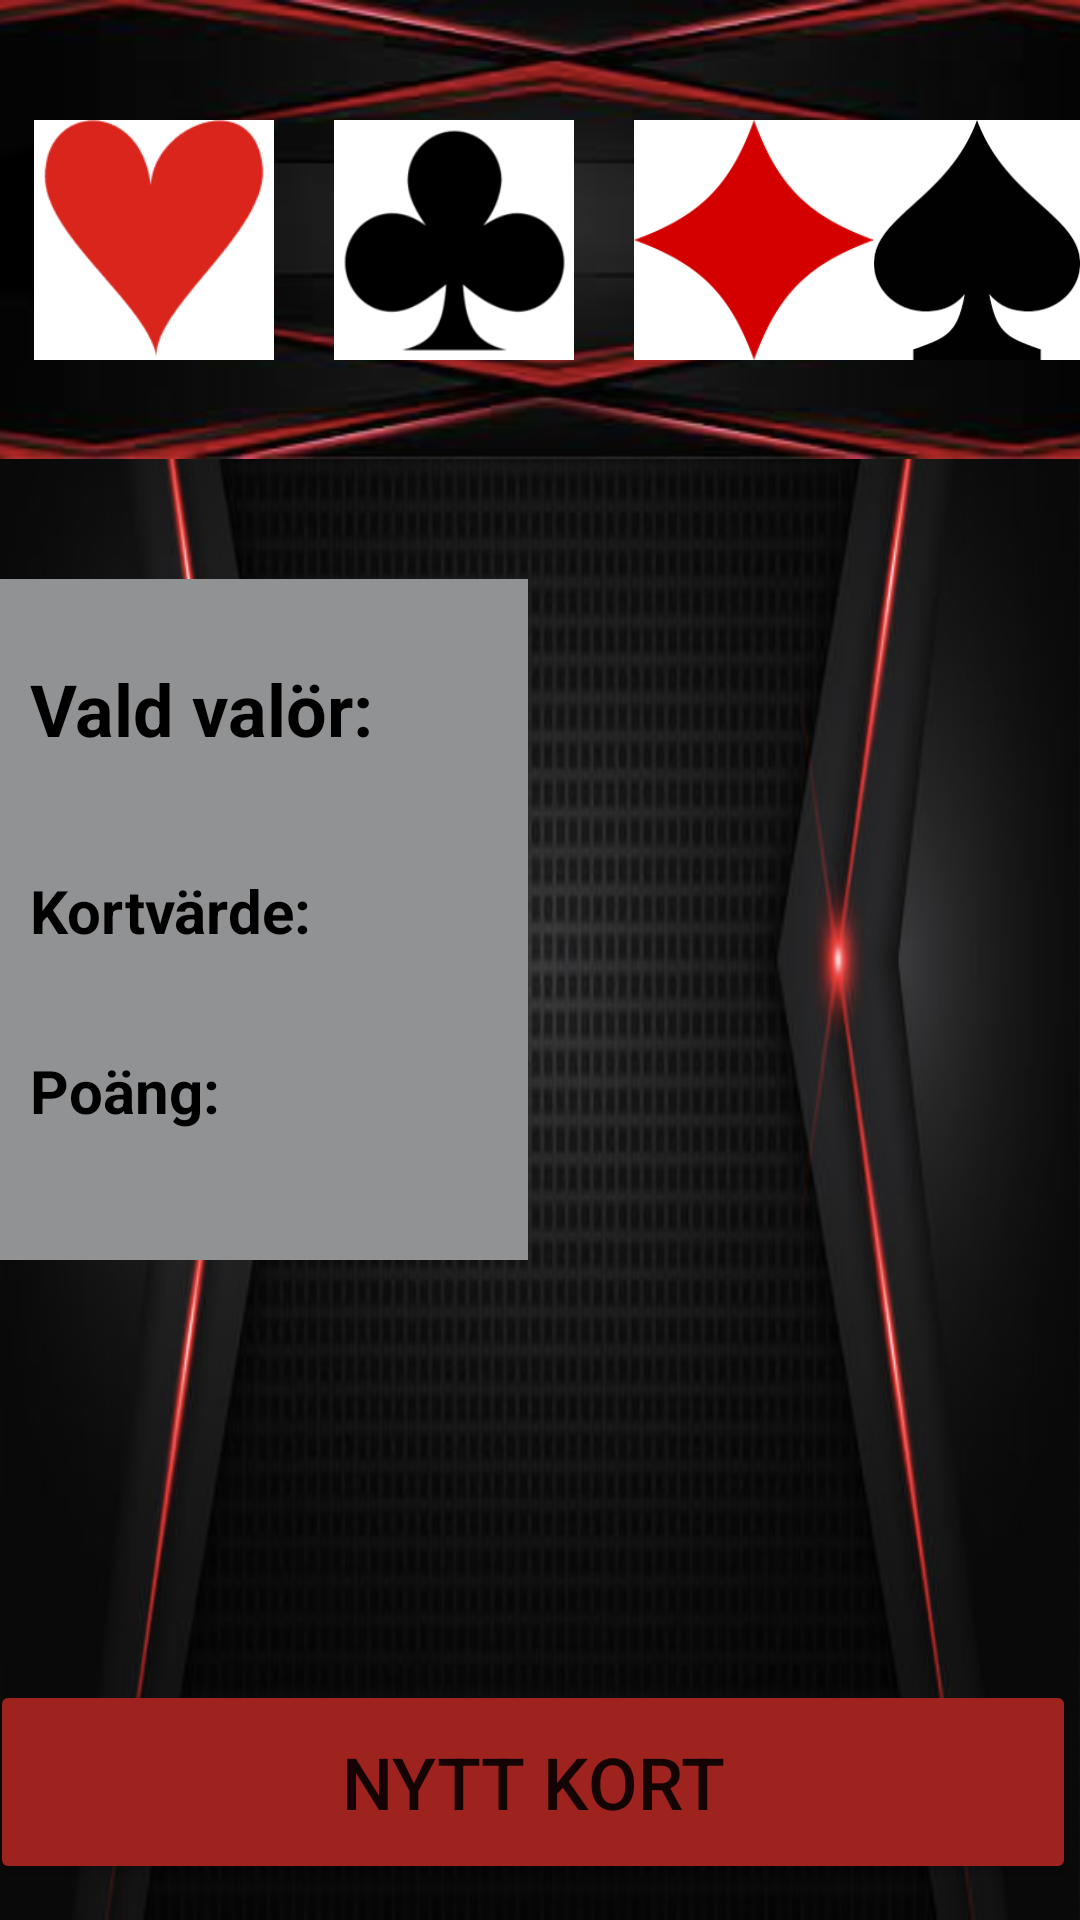

Icon click points for this 1080px×1920px phone screenshot, format [x,y]:
clubs: [454,240]
diamonds: [754,240]
hearts: [154,240]
spades: [968,240]
